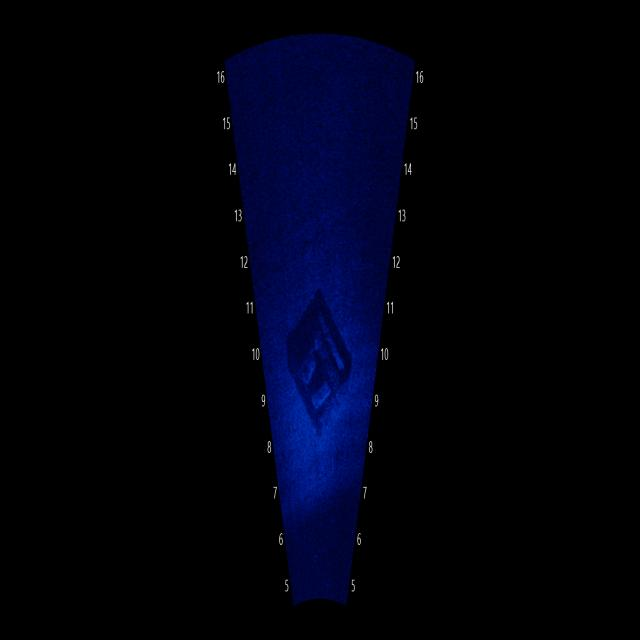square: (276, 268, 360, 442)
